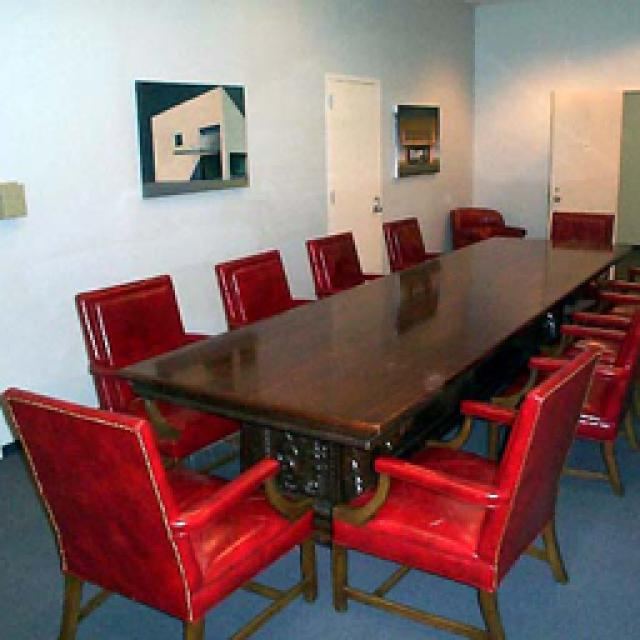banister: (308, 0, 519, 468)
door bars: (192, 15, 340, 362)
space heater: (8, 392, 70, 638)
